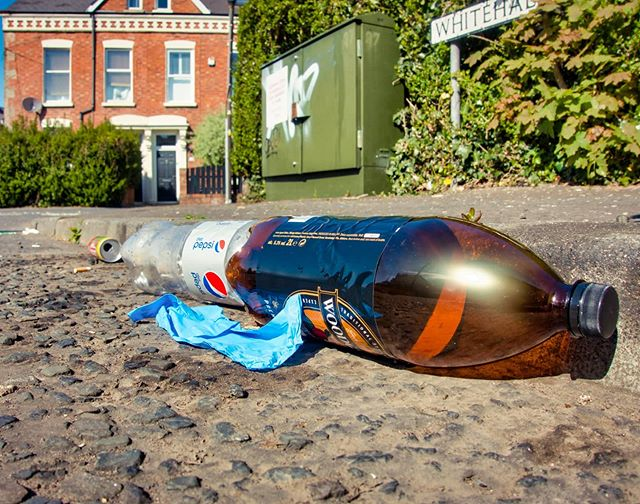building: (1, 1, 227, 201)
sign: (424, 1, 560, 51)
trash: (10, 201, 635, 399)
